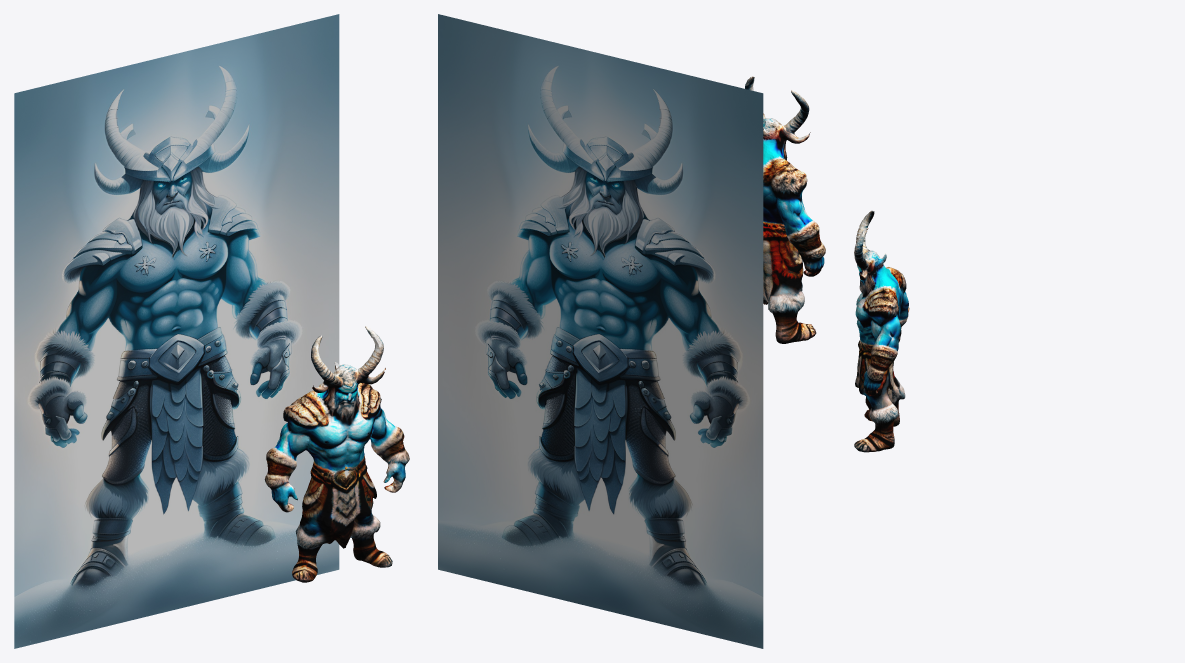
The model's file is arafed_image_of_a_cartoon_character_with_a_horne.glb.
The picture shows the model from 3 angles, left to right: view 1: azimuth 30°, elevation 25°; view 2: azimuth 150°, elevation 25°; view 3: azimuth 270°, elevation 25°; orthographic projection. The views are drawn at different scales.
Visible parts, largest first — view 1: web_upload_2, mesh.obj_0; view 2: web_upload_2, mesh.obj_0; view 3: mesh.obj_0.
Part boxes in pixels (x1,y1,x2,y2): web_upload_2: [14, 14, 339, 648]; mesh.obj_0: [264, 326, 409, 582]; web_upload_2: [438, 14, 763, 648]; mesh.obj_0: [745, 76, 825, 343]; mesh.obj_0: [854, 210, 909, 452].
Bounding box in the file's own units: 1.22 × 2 × 1.16.
2 materials, 2 textured.
